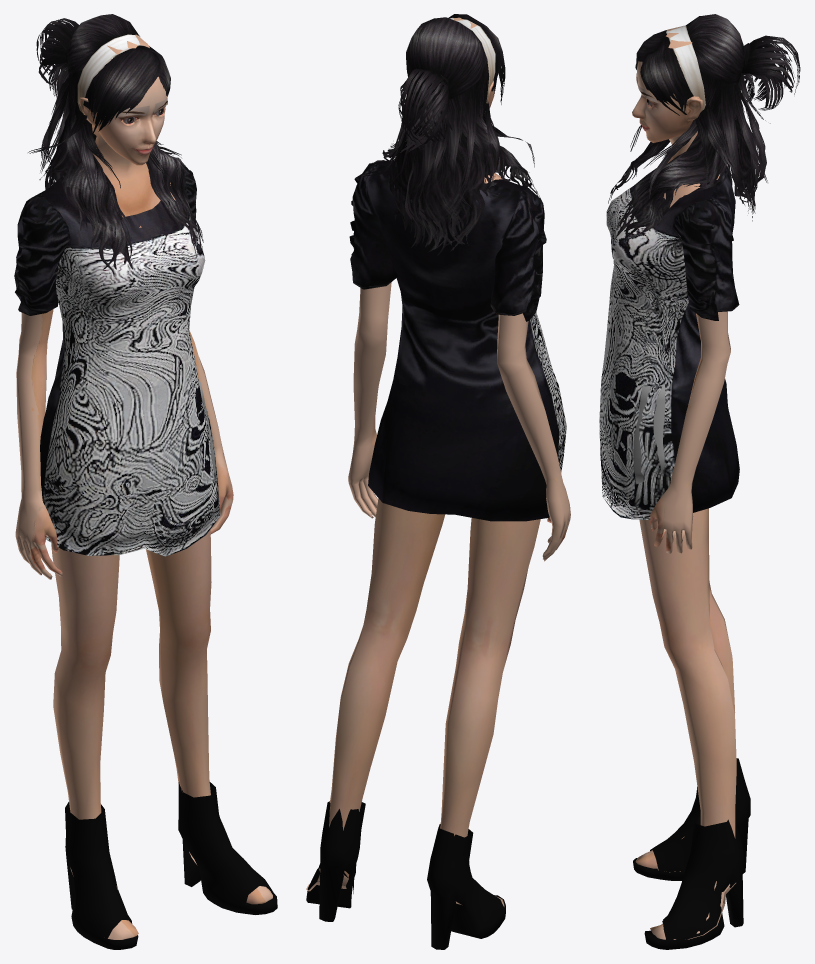
3 views of the same model, side by side, from view 1: azimuth 30°, elevation 25°; view 2: azimuth 150°, elevation 25°; view 3: azimuth 270°, elevation 25° (orthographic). The views are drawn at different scales.
Visible parts, largest first — view 1: 对象005, DrawCall_0280, 头发, 对象007, 对象008, 对象001; view 2: 对象005, DrawCall_0280, 头发, 对象008, 对象007; view 3: 对象005, DrawCall_0280, 头发, 对象007, 对象008, 对象001, 对象006.
Part boxes in pixels (box(x1,y1,x2,y2)): 对象005: box(14, 157, 220, 556); DrawCall_0280: box(15, 135, 272, 939); 头发: box(28, 14, 203, 276); 对象007: box(178, 782, 277, 914); 对象008: box(65, 802, 138, 949); 对象001: box(79, 34, 167, 165); 对象005: box(349, 160, 566, 521); DrawCall_0280: box(306, 173, 570, 906); 头发: box(361, 14, 540, 255); 对象008: box(427, 824, 505, 949); 对象007: box(306, 801, 365, 921); 对象005: box(599, 166, 739, 519); DrawCall_0280: box(635, 131, 736, 939); 头发: box(608, 14, 800, 241); 对象007: box(644, 816, 744, 949); 对象008: box(633, 758, 750, 880); 对象001: box(632, 26, 702, 142); 对象006: box(633, 384, 665, 483).
Size of the model in its own units: 0.5077 by 1.76 by 0.3706.
